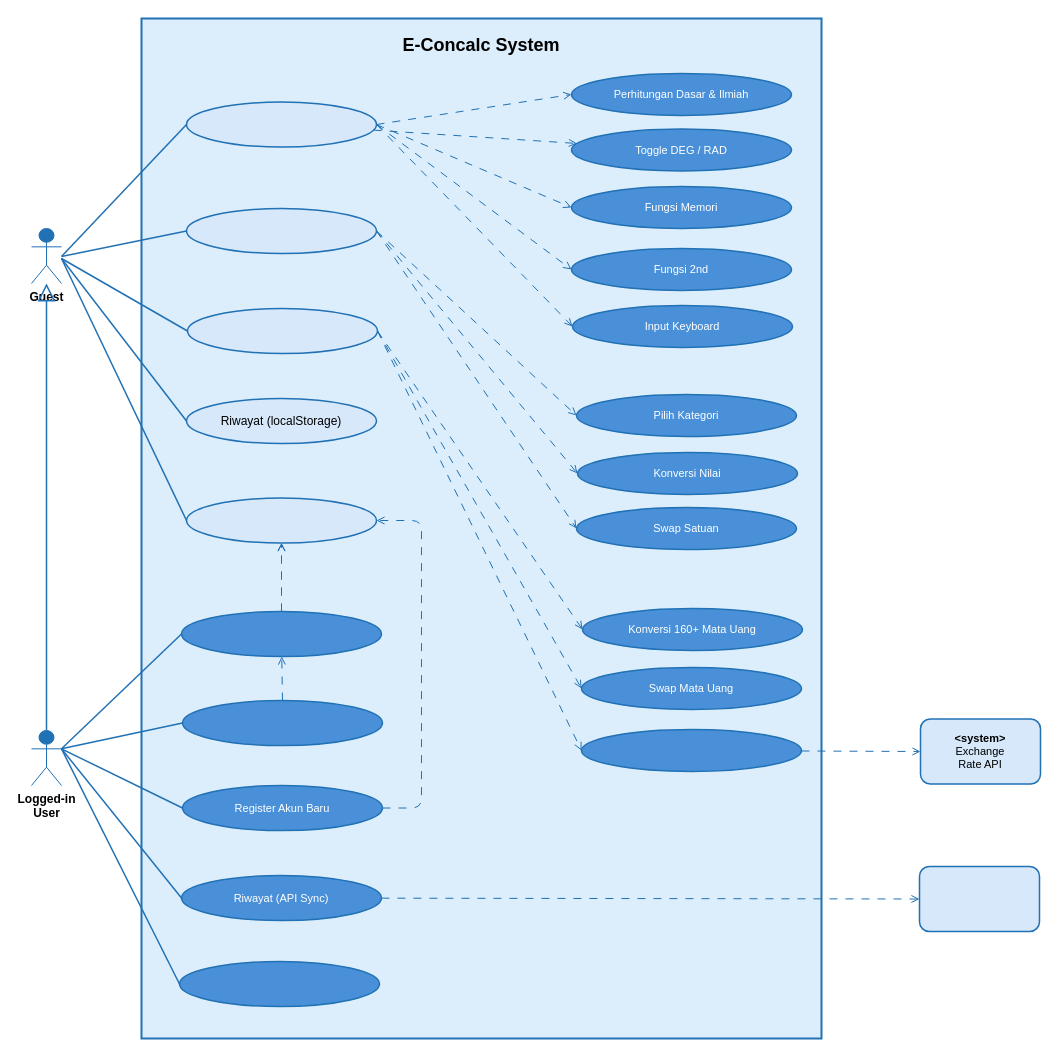
Some shapes in this 1058 by 1056 pixel diagram are drawn without their labels. The centre of each missing label's shape, as x and y in pixels:
"<system> REST API /api/history" goes at pixel 979 898.
"Kalkulator Ilmiah" goes at pixel 281 124.
"Konverter Mata Uang" goes at pixel 282 330.
"Konverter Satuan" goes at pixel 281 230.
"Login / Register" goes at pixel 281 520.
"Login Google OAuth" goes at pixel 282 722.
"Login Username/Password" goes at pixel 281 633.
"Logout" goes at pixel 279 983.
"Refresh Kurs" goes at pixel 691 750.
